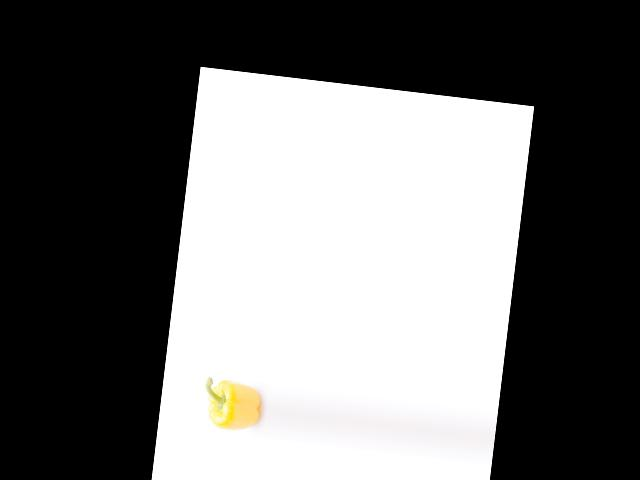bell_pepper: (202, 375, 264, 438)
